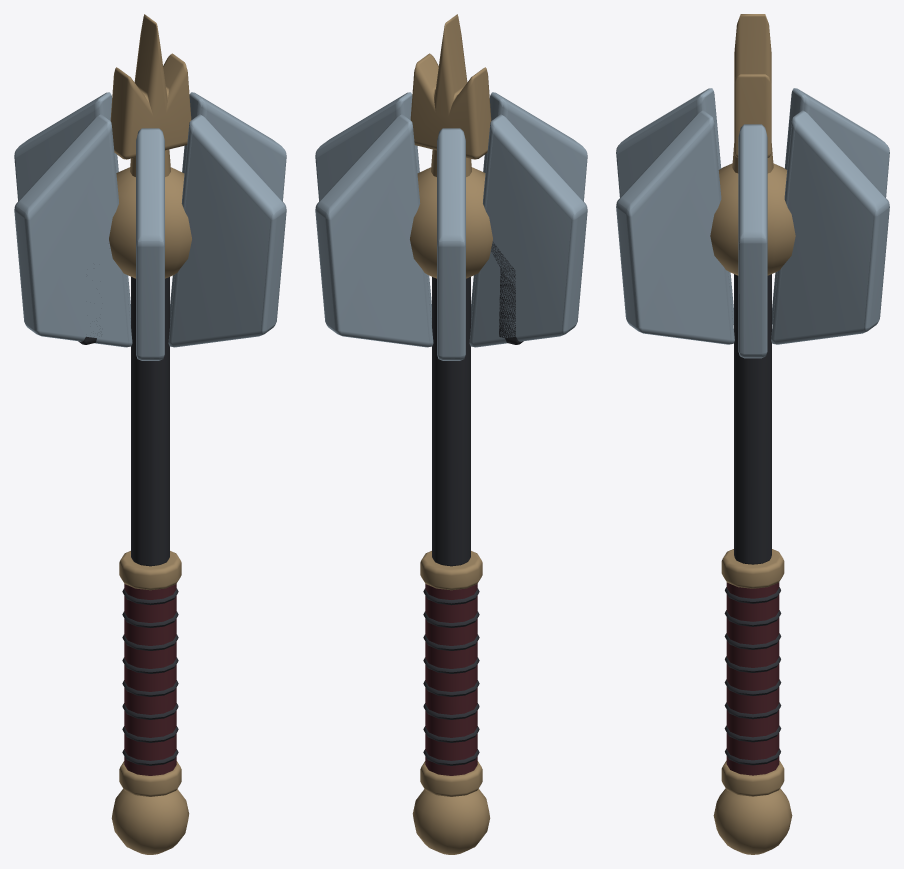
The model's file is reliquary-star.glb.
3 views of the same model, side by side, from view 1: azimuth 30°, elevation 25°; view 2: azimuth 150°, elevation 25°; view 3: azimuth 270°, elevation 25° (orthographic).
Parts seen in each view (by area): view 1: Mace flange.005, Mace flange.003, Mace neck, Leather grip.005, Pointed reliquary crest.011, Mace flange.004, Mace core, Pommel.005, Mace flange, Mace flange.002, Grip collar.011, Grip collar.010; view 2: Mace flange.001, Mace flange.003, Mace neck, Leather grip.005, Pointed reliquary crest.011, Mace flange.002, Mace core, Pommel.005, Mace flange, Mace flange.004, Grip collar.011, Open lancet arch.022 (+1 smaller); view 3: Mace flange.001, Mace flange.005, Mace neck, Leather grip.005, Mace flange, Mace core, Pointed reliquary crest.011, Pommel.005, Mace flange.002, Mace flange.004, Grip collar.011, Grip collar.010.
Part boxes in pixels (x1,y1,x2,y2): Mace flange.005: (168,114,286,347); Mace flange.003: (14,114,132,347); Mace neck: (131,277,169,566); Leather grip.005: (124,584,176,775); Pointed reliquary crest.011: (110,14,191,159); Mace flange.004: (136,128,164,360); Mace core: (109,167,191,278); Pommel.005: (111,789,189,854); Mace flange: (170,92,286,324); Mace flange.002: (14,92,130,324); Grip collar.011: (119,551,181,590); Grip collar.010: (119,761,181,796); Mace flange.001: (315,114,433,347); Mace flange.003: (469,114,587,347); Mace neck: (432,277,470,566); Leather grip.005: (425,584,477,775); Pointed reliquary crest.011: (410,14,491,159); Mace flange.002: (437,128,465,360); Mace core: (410,167,492,278); Pommel.005: (412,789,490,854); Mace flange: (315,92,431,324); Mace flange.004: (471,92,587,324); Grip collar.011: (420,551,482,590); Open lancet arch.022: (491,242,523,344); Mace flange.001: (771,110,889,344); Mace flange.005: (616,110,734,344); Mace neck: (734,274,771,564); Leather grip.005: (726,582,779,775); Mace flange: (738,124,767,358); Mace core: (710,163,795,275); Pointed reliquary crest.011: (734,14,771,157); Pommel.005: (713,788,792,854); Mace flange.002: (772,88,889,324); Mace flange.004: (616,88,733,324); Grip collar.011: (721,549,784,588); Grip collar.010: (721,760,784,796).
Bounding box in the file's own units: 0.3707 × 1.13 × 0.3344.
